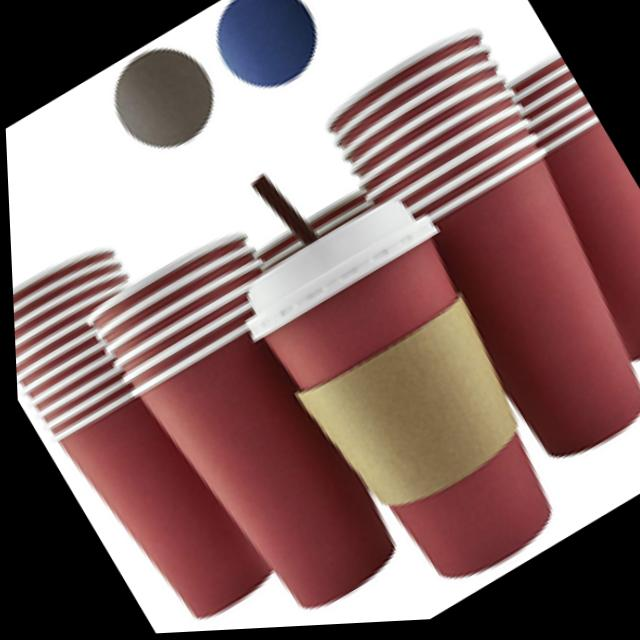paper_cups: (217, 182, 598, 629), (112, 296, 385, 636), (415, 130, 640, 471), (28, 356, 243, 639), (522, 92, 640, 362)
